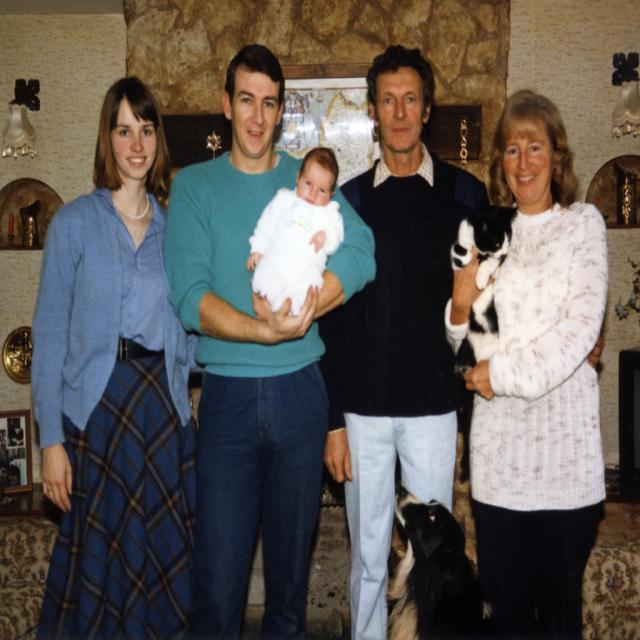Dog: (381, 482, 492, 638)
